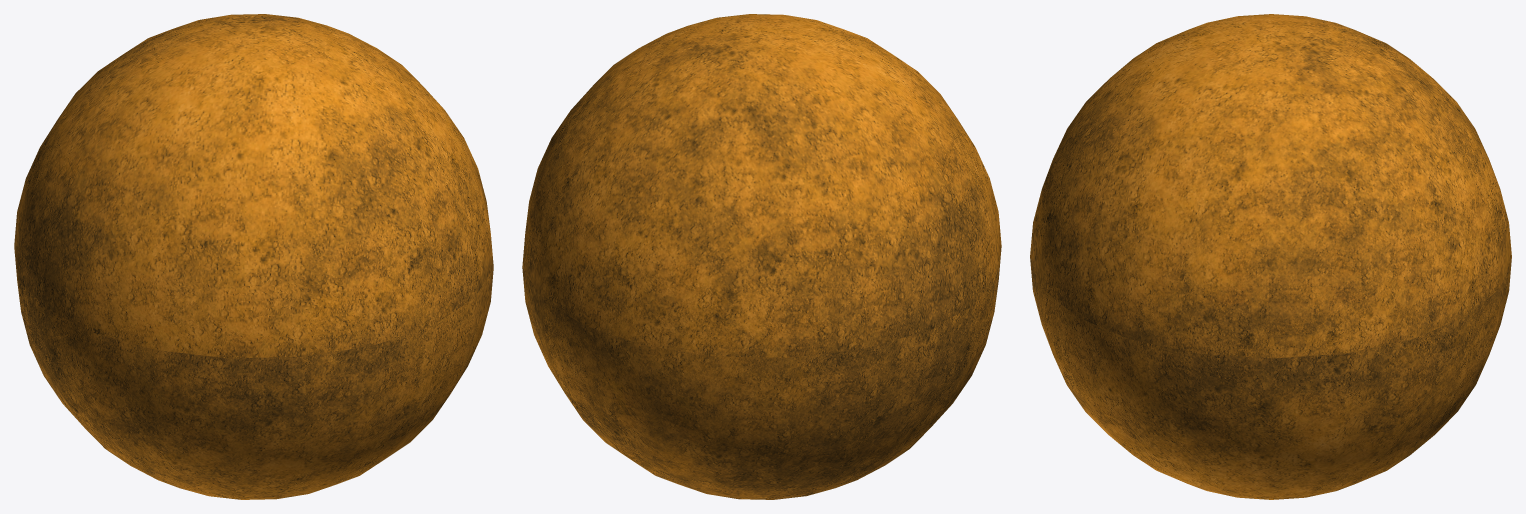
Rendered from Proteus Moon Model R UV DIF.fbx.
The picture shows the model from 3 angles, left to right: view 1: azimuth 30°, elevation 25°; view 2: azimuth 150°, elevation 25°; view 3: azimuth 270°, elevation 25°; orthographic projection.
Parts seen in each view (by area): view 1: pSphere1; view 2: pSphere1; view 3: pSphere1.
Part boxes in pixels (x1,y1,x2,y2): pSphere1: (14,14,493,499); pSphere1: (522,14,1001,499); pSphere1: (1030,14,1511,499).
Bounding box in the file's own units: 91.78 × 92.77 × 91.91.
1 material, 1 textured.
